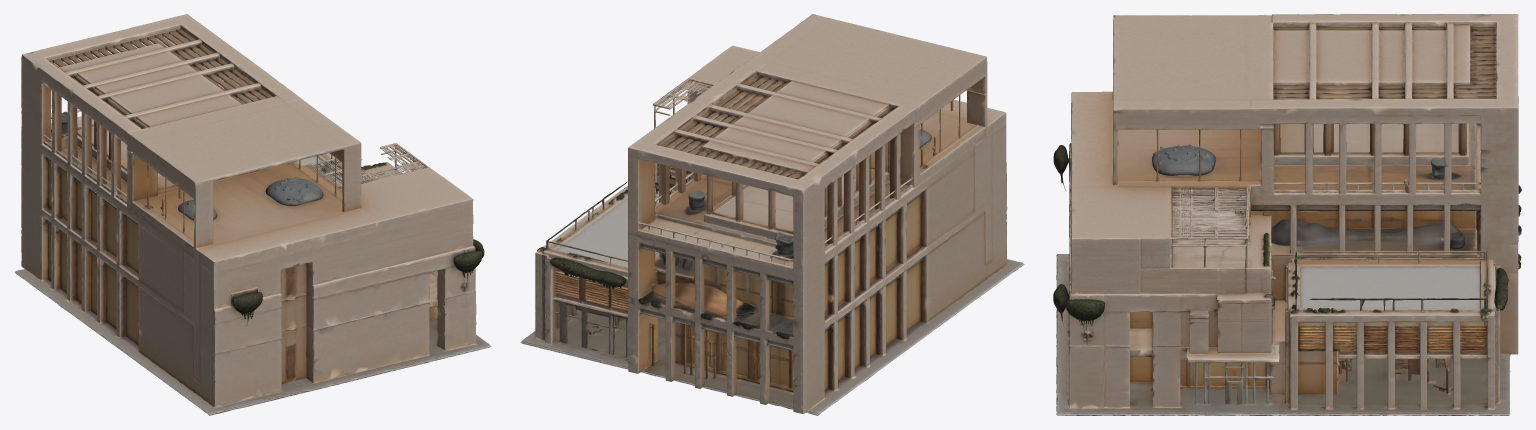
The model's file is shopblk1.glb.
3 renders of one model, left to right at view 1: azimuth 30°, elevation 25°; view 2: azimuth 150°, elevation 25°; view 3: azimuth 270°, elevation 25°, orthographic. The views are drawn at different scales.
Parts seen in each view (by area): view 1: tripo_node_f659cf5f-adca-4809-aeab-73c3730deb1c; view 2: tripo_node_f659cf5f-adca-4809-aeab-73c3730deb1c; view 3: tripo_node_f659cf5f-adca-4809-aeab-73c3730deb1c.
Part boxes in pixels (bbox=[...]): tripo_node_f659cf5f-adca-4809-aeab-73c3730deb1c: bbox=[14, 14, 491, 415]; tripo_node_f659cf5f-adca-4809-aeab-73c3730deb1c: bbox=[520, 14, 1024, 415]; tripo_node_f659cf5f-adca-4809-aeab-73c3730deb1c: bbox=[1053, 14, 1521, 415].
Size of the model in its own units: 17.1 by 12 by 20.49.
Materials: 1 (1 with a texture image).
